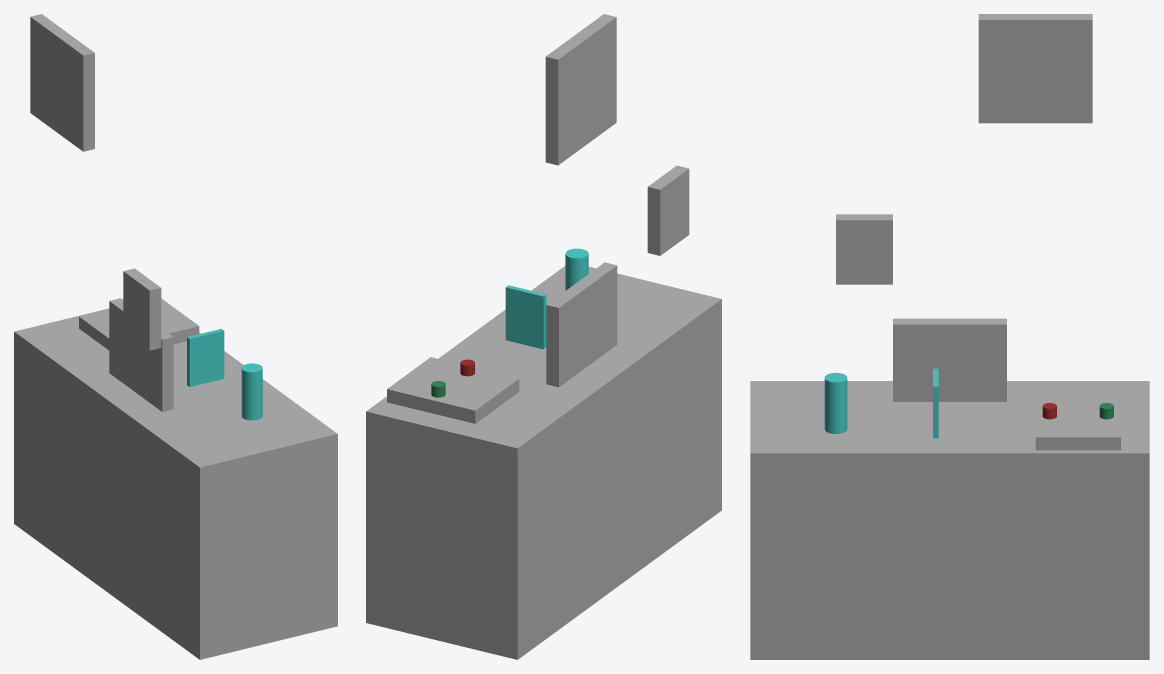
Rendered from ZoneBD_export.fbx.
3 views of the same model, side by side, from view 1: azimuth 30°, elevation 25°; view 2: azimuth 150°, elevation 25°; view 3: azimuth 270°, elevation 25° (orthographic). The views are drawn at different scales.
Visible parts, largest first — view 1: Table, Wall_Clock, Terminal, Socket_Photo, PhotoFrame, Console, Cartridge; view 2: Table, Wall_Clock, Terminal, Console, Socket_Photo, PhotoFrame, Cartridge; view 3: Table, Wall_Clock, Terminal, Console, Socket_Photo, Cartridge.
Part boxes in pixels (x1,y1,x2,y2): Table: (14,308,337,659); Wall_Clock: (30,14,94,151); Terminal: (109,298,173,411); Socket_Photo: (123,268,161,350); PhotoFrame: (187,328,224,386); Console: (79,298,199,350); Cartridge: (241,363,262,420); Table: (366,266,721,659); Wall_Clock: (545,14,616,165); Terminal: (546,262,617,387); Console: (387,357,519,423); Socket_Photo: (647,165,689,255); PhotoFrame: (505,285,546,349); Cartridge: (565,248,588,290); Table: (750,381,1149,659); Wall_Clock: (978,14,1092,123); Terminal: (893,318,1006,401); Console: (1035,395,1120,450); Socket_Photo: (836,214,892,284); Cartridge: (824,372,847,433).
Size of the model in its own units: 64.5 by 220 by 140.
